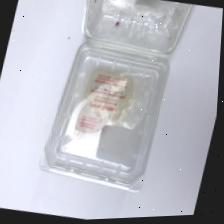plastic: (40, 0, 196, 193)
